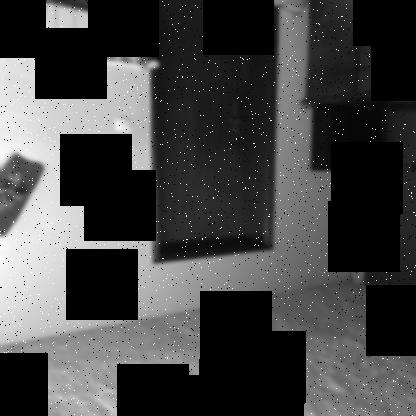Porte: (150, 0, 282, 268)
